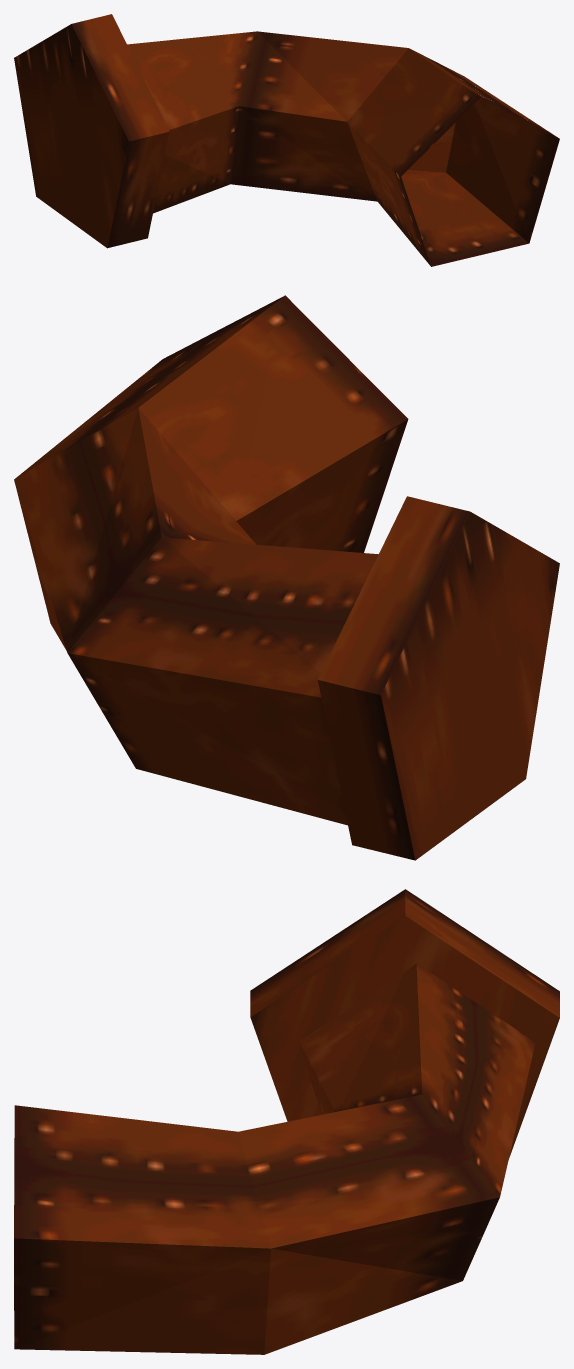
File: Rohr_StückKurveDünn [Rostig]_1521.glb
The picture shows the model from 3 angles, top to bottom: view 1: azimuth 30°, elevation 25°; view 2: azimuth 150°, elevation 25°; view 3: azimuth 270°, elevation 25°; orthographic projection. The views are drawn at different scales.
Visible parts, largest first — view 1: pCylinderShape75, pCylinderShape76; view 2: pCylinderShape75, pCylinderShape76; view 3: pCylinderShape75, pCylinderShape76.
Part boxes in pixels (<box>): pCylinderShape75: <box>127,31,559,266</box>; pCylinderShape76: <box>14,14,169,248</box>; pCylinderShape75: <box>14,295,408,825</box>; pCylinderShape76: <box>318,496,559,860</box>; pCylinderShape75: <box>14,963,535,1354</box>; pCylinderShape76: <box>250,889,559,1159</box>.
Bounding box in the file's own units: 0.8219 × 0.4542 × 0.8416.
2 materials, 2 textured.
